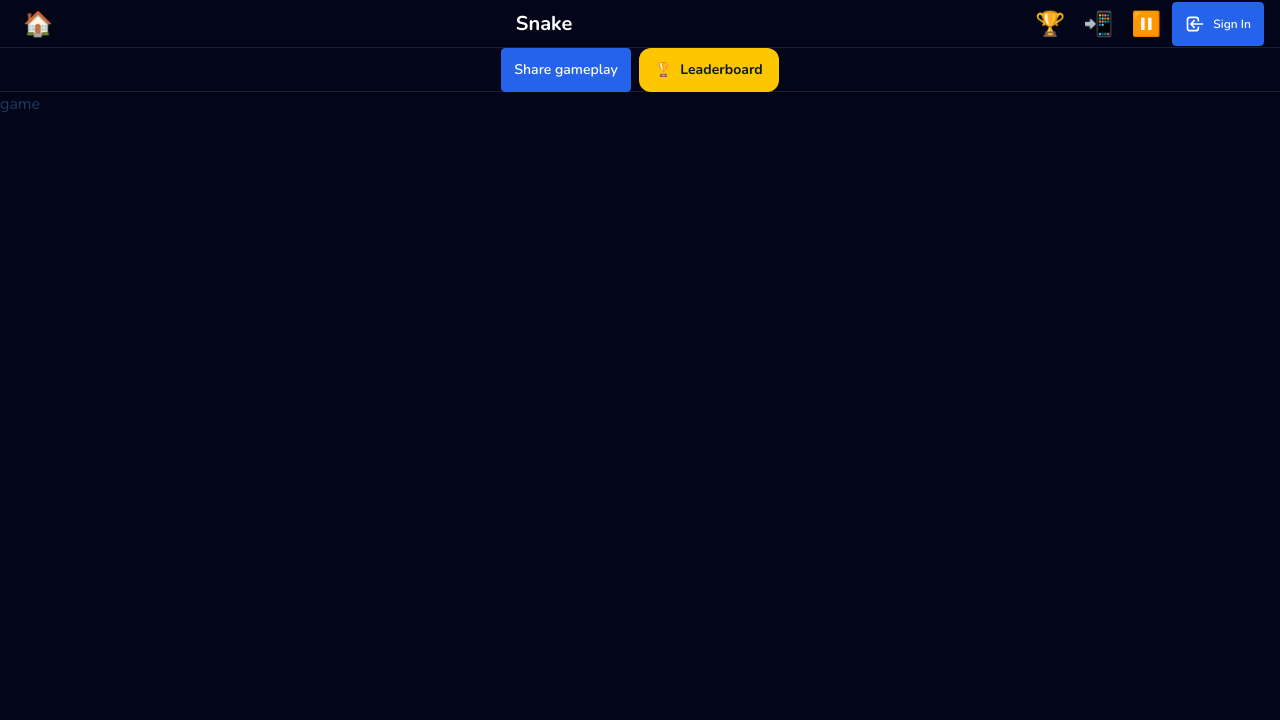
it: IOSInstallPrompt › during a game (issue #32) › shows inside the pause menu while the game is paused, then leaves with it
Click the button named "Pause game" at (1146, 24), box [1124, 2, 1168, 46]
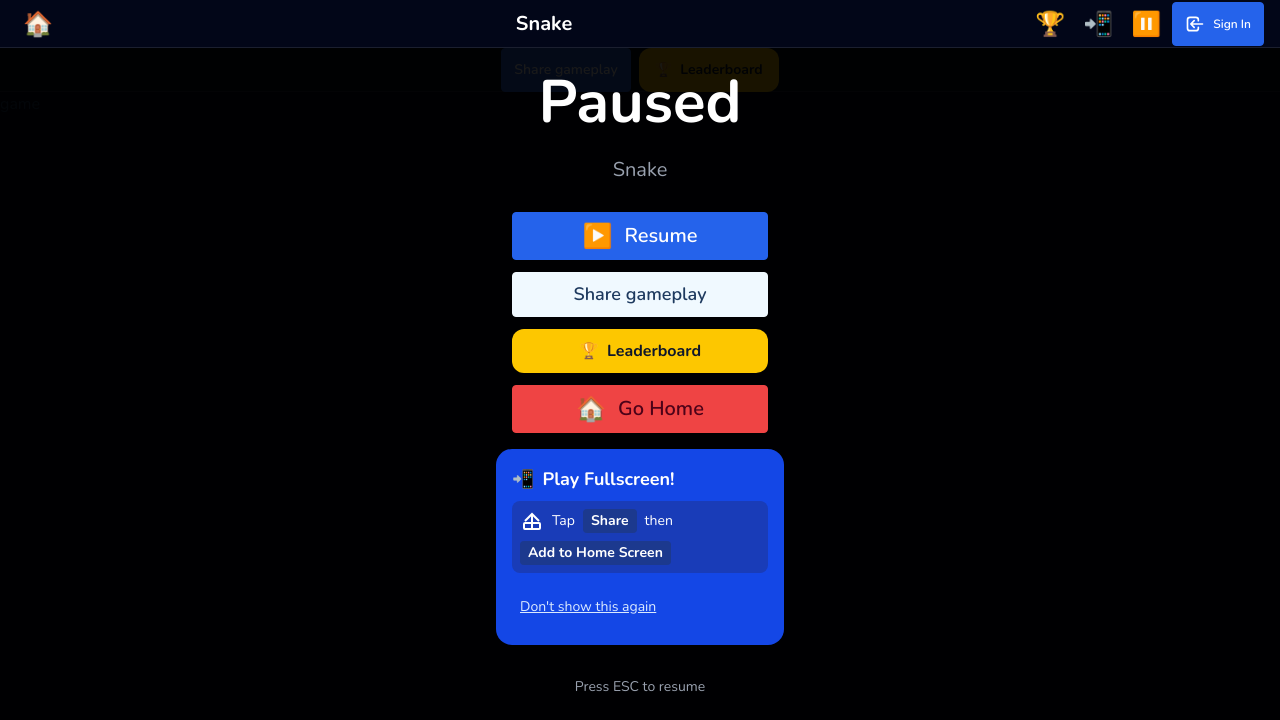
Expected: the text "Play Fullscreen!" is shown, [542, 466, 674, 490]
Click the button "▶️ Resume" at (640, 236), box [512, 212, 768, 260]
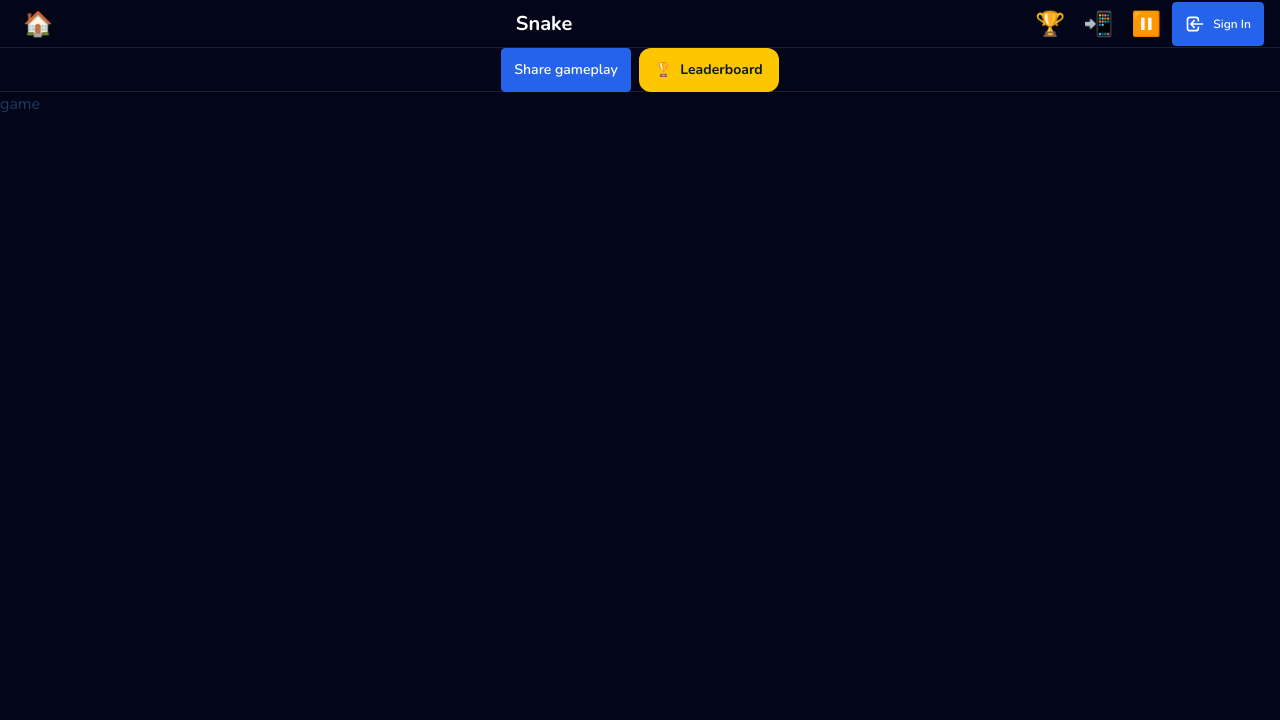
Expected: the element with test id "ios-install-tip" is gone
Expected: the text "Play Fullscreen!" is gone
